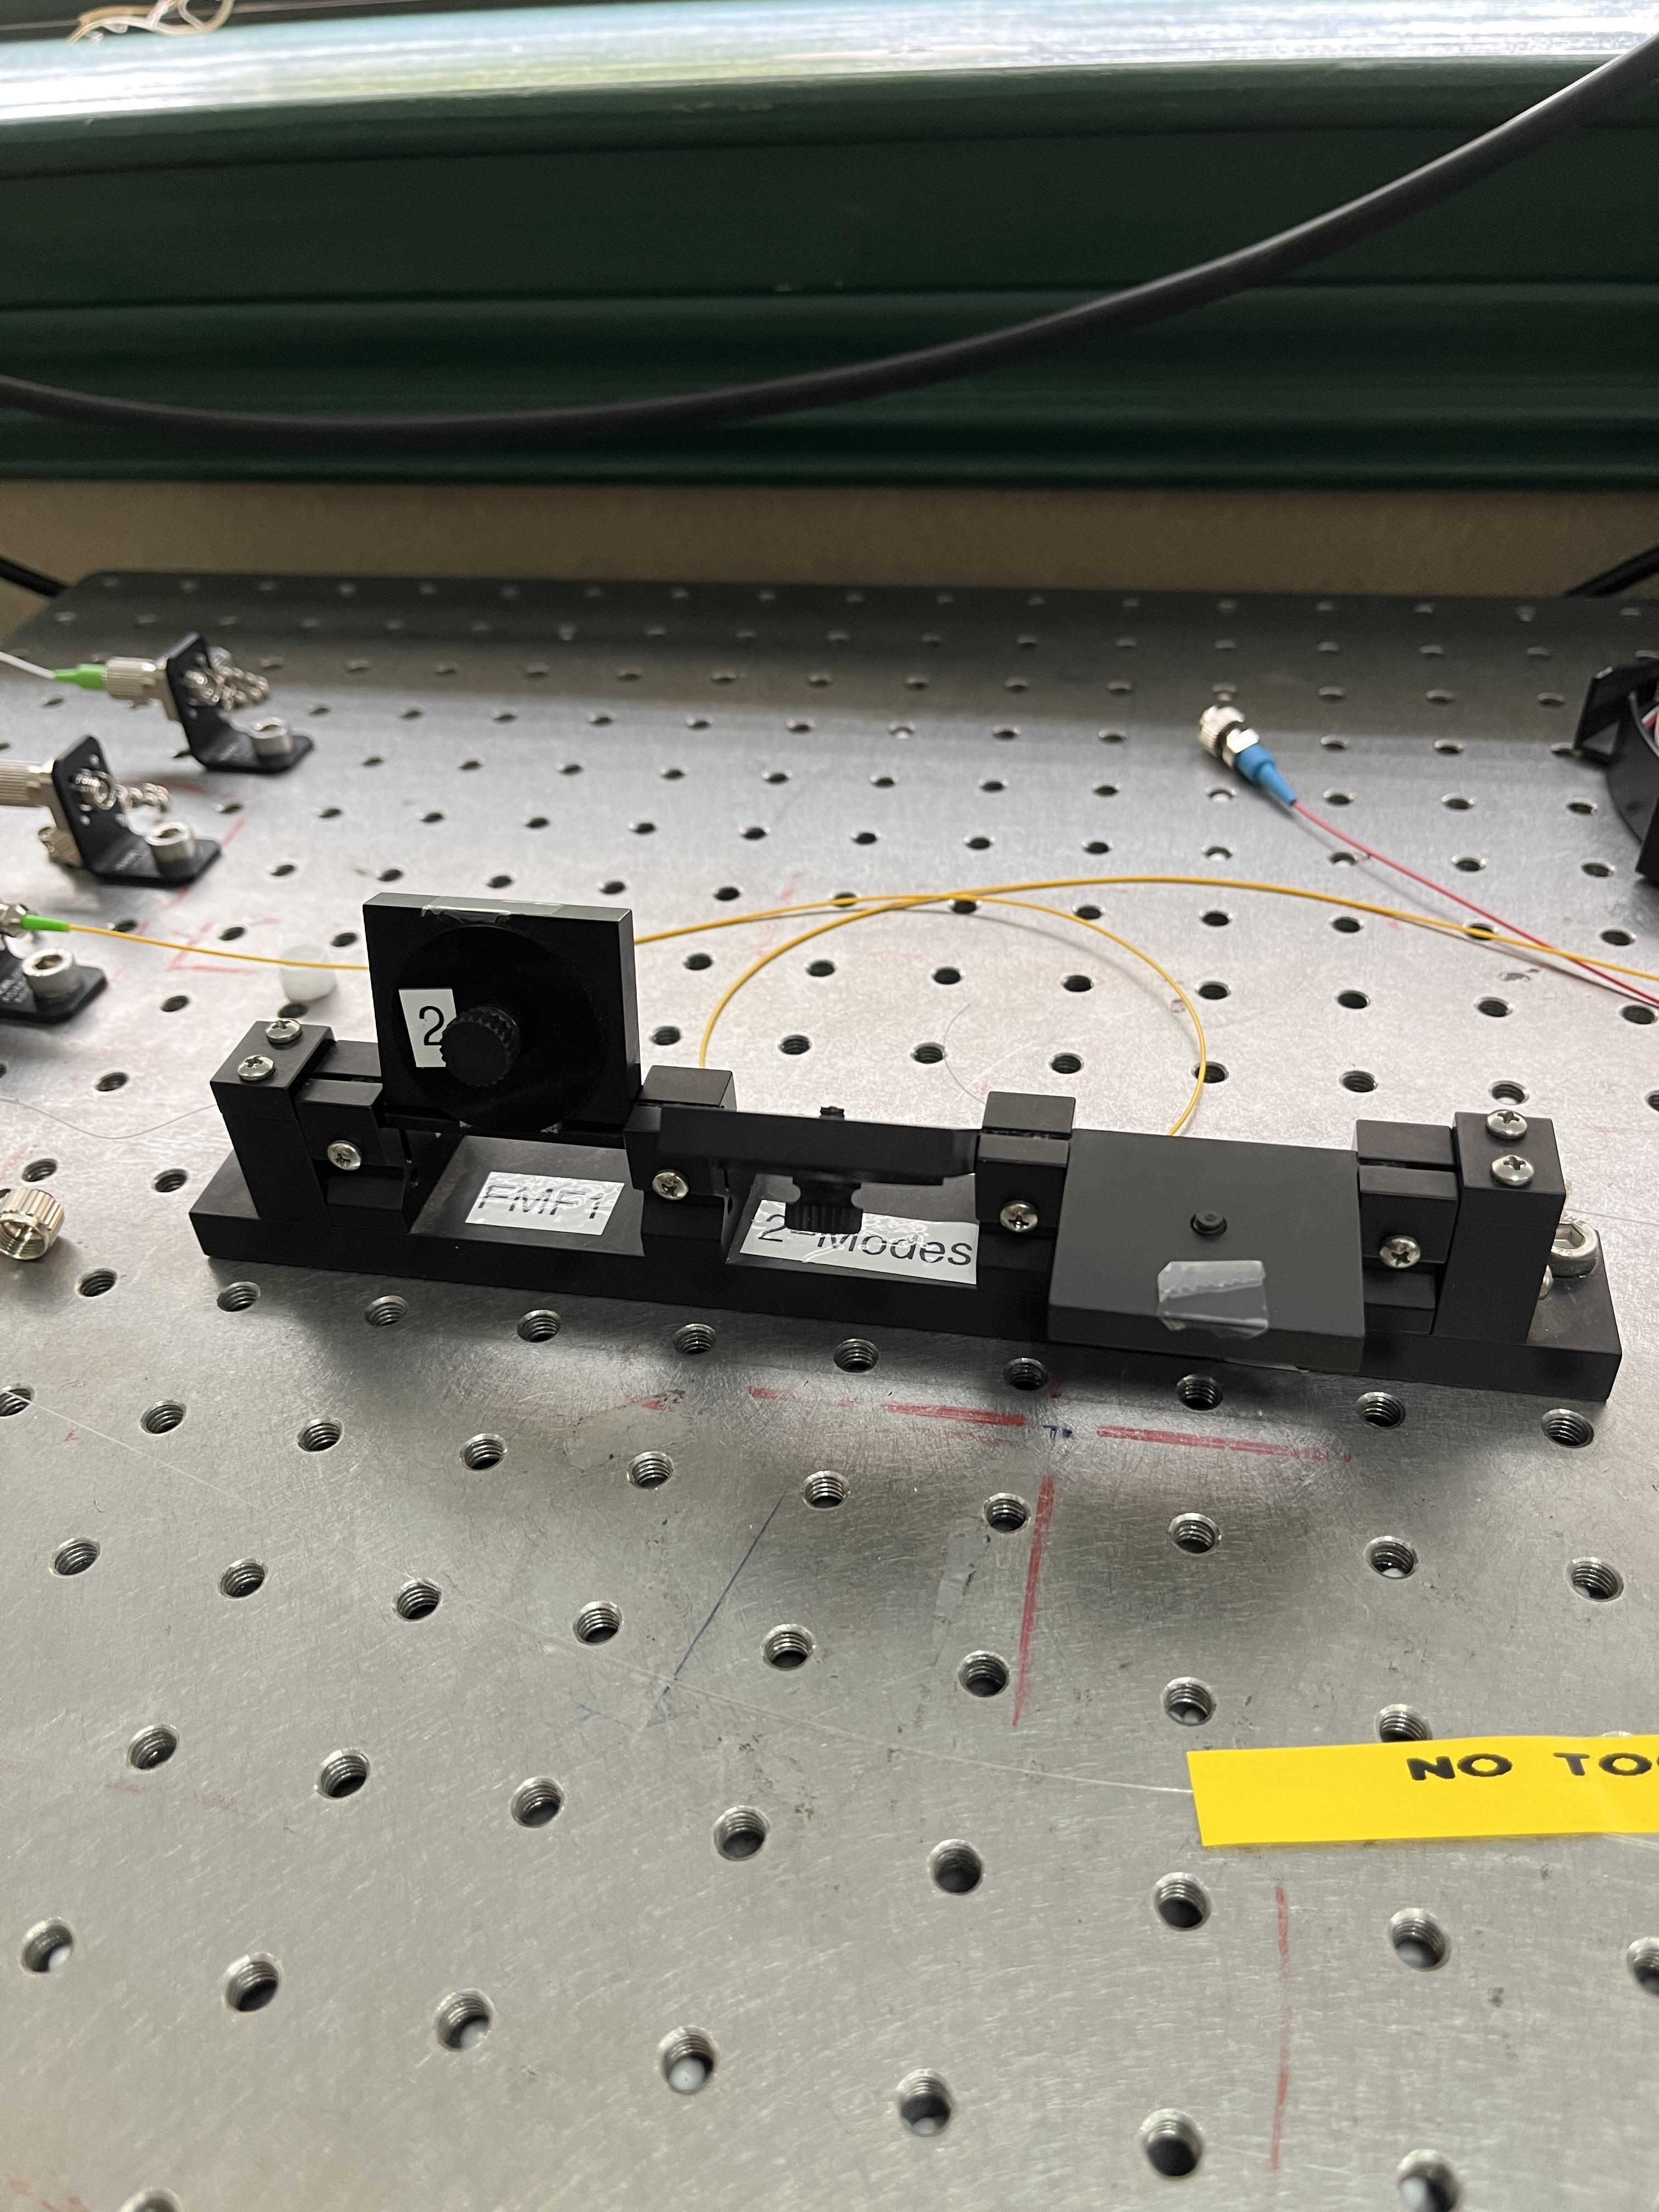paddle_polarization_controller: (183, 888, 1628, 1409)
